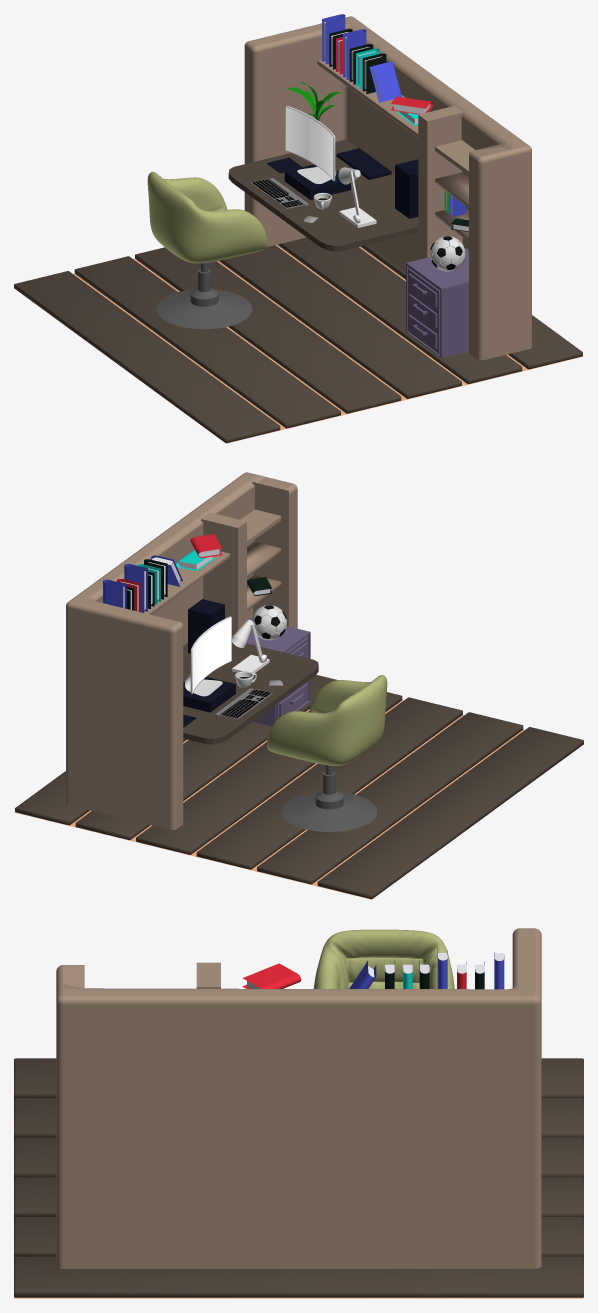
3 views of the same model, one above another, from view 1: azimuth 30°, elevation 25°; view 2: azimuth 150°, elevation 25°; view 3: azimuth 270°, elevation 25° (orthographic). The views are drawn at different scales.
Parts seen in each view (by area): view 1: bricks, shelf, Plane, Cube029, Cube, partition, Cylinder, Plane003, Ground, Plane005, Plane001, Plane004 (+8 smaller); view 2: bricks, shelf, Cube029, Plane, partition, Cylinder, Cube, Plane003, Ground, Plane005, Plane001, Plane004 (+5 smaller); view 3: shelf, bricks, Cube029, Ground, Cube022, partition.
Part boxes in pixels (x1,y1,x2,y2): bricks: (14, 237, 582, 443); shelf: (244, 16, 531, 360); Plane: (228, 139, 418, 251); Cube029: (147, 171, 267, 263); Cube: (406, 248, 468, 357); partition: (418, 106, 463, 259); Cylinder: (156, 262, 252, 329); Plane003: (285, 105, 335, 181); Ground: (73, 245, 583, 443); Plane005: (395, 159, 418, 218); Plane001: (317, 60, 418, 137); Plane004: (284, 164, 350, 199); bricks: (15, 674, 583, 899); shelf: (66, 472, 297, 829); Cube029: (267, 675, 387, 765); Plane: (183, 642, 318, 744); partition: (201, 512, 246, 642); Cylinder: (281, 765, 377, 831); Cube: (247, 617, 310, 726); Plane003: (190, 616, 231, 694); Ground: (14, 700, 524, 899); Plane005: (188, 599, 224, 653); Plane001: (144, 551, 230, 614); Plane004: (183, 677, 235, 712); shelf: (56, 928, 541, 1268); bricks: (14, 1058, 583, 1297); Cube029: (313, 929, 454, 988); Ground: (14, 1297, 583, 1298); Cube022: (242, 963, 301, 988); partition: (196, 962, 220, 988).
Bounding box in the file's own units: 7.79 × 4.8 × 8.
